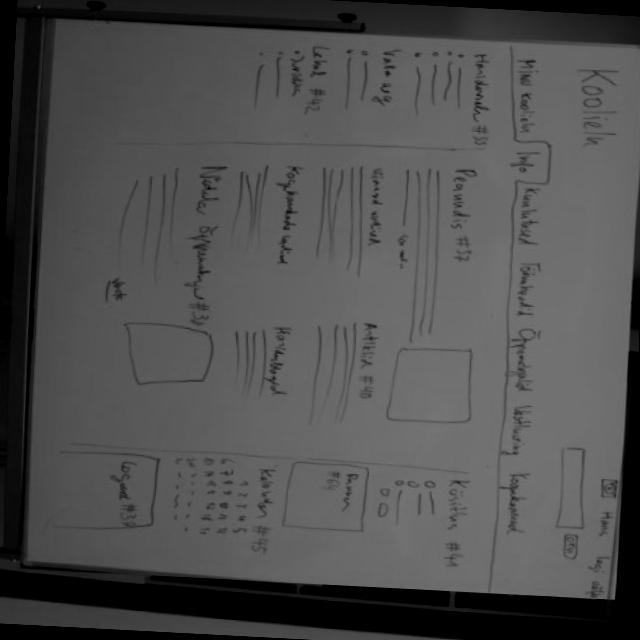White-board: (23, 18, 640, 600)
